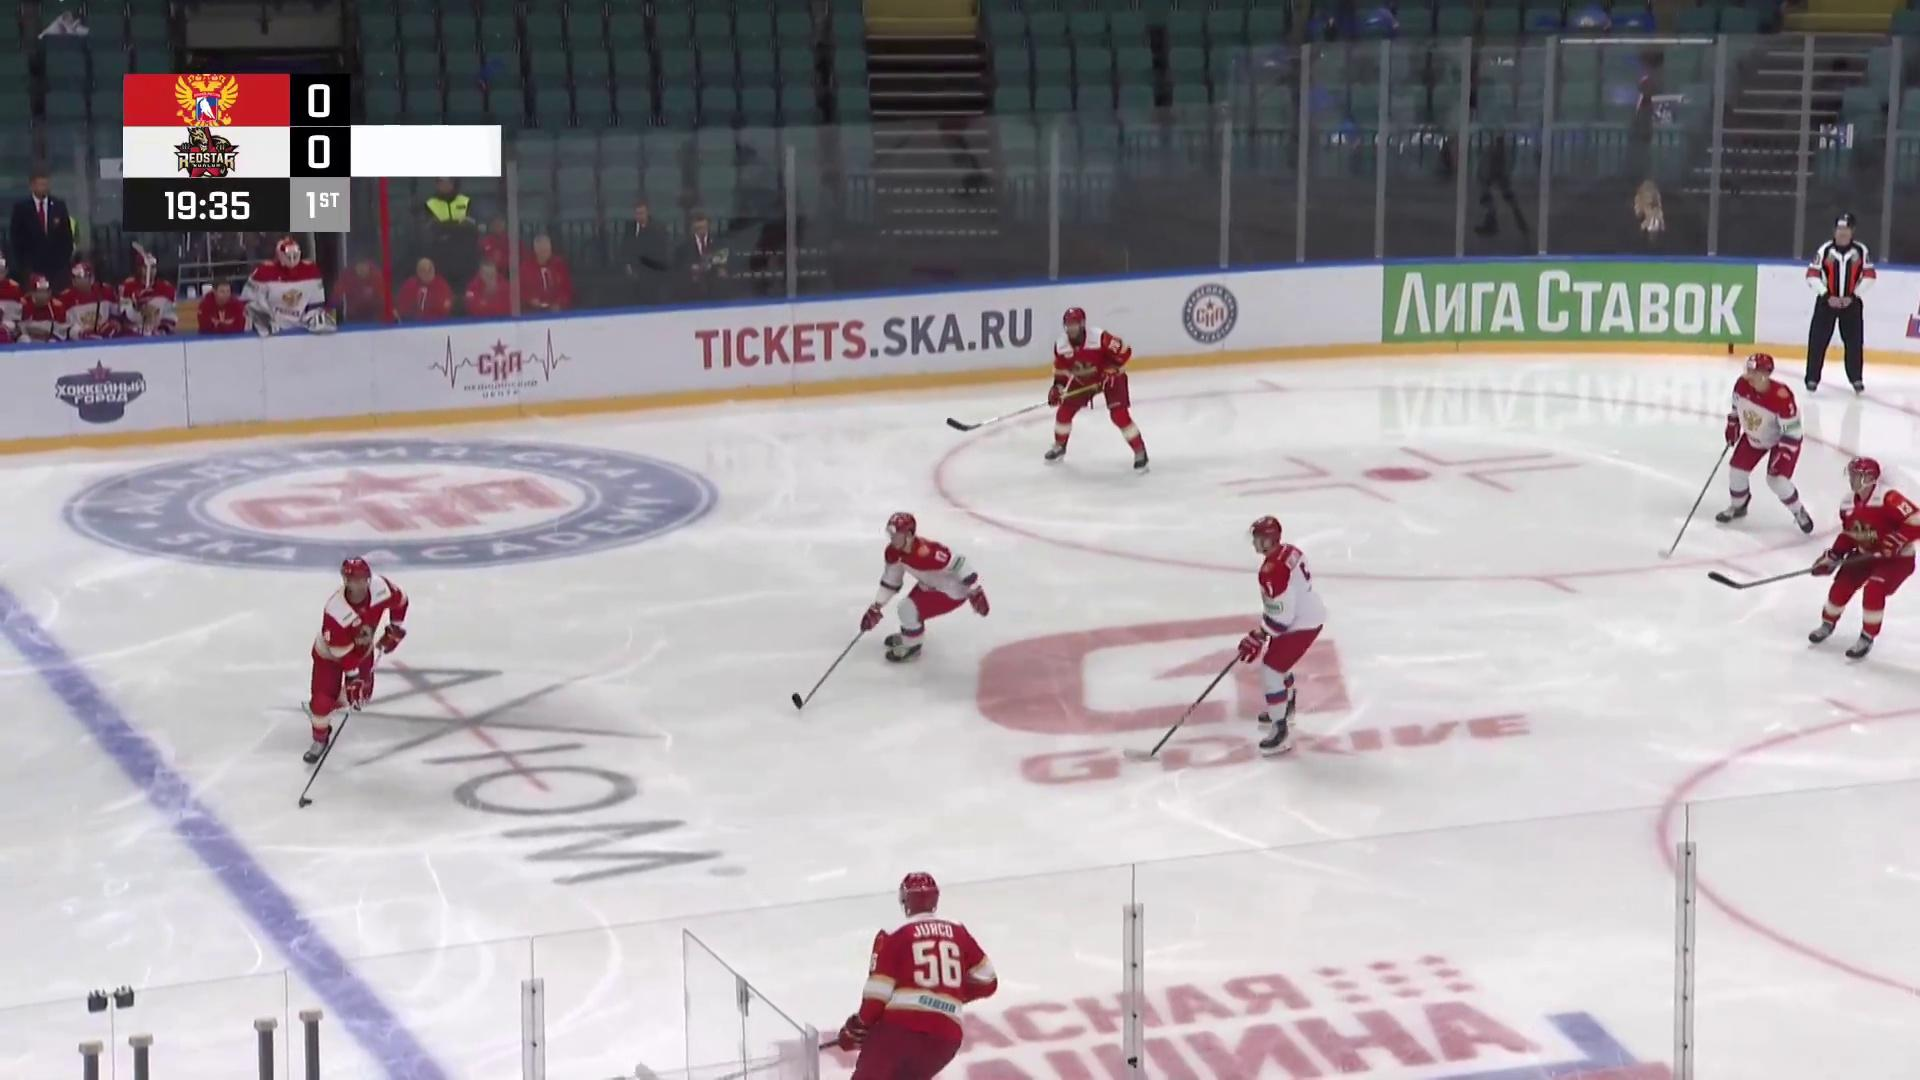ball: (301, 796, 314, 807)
